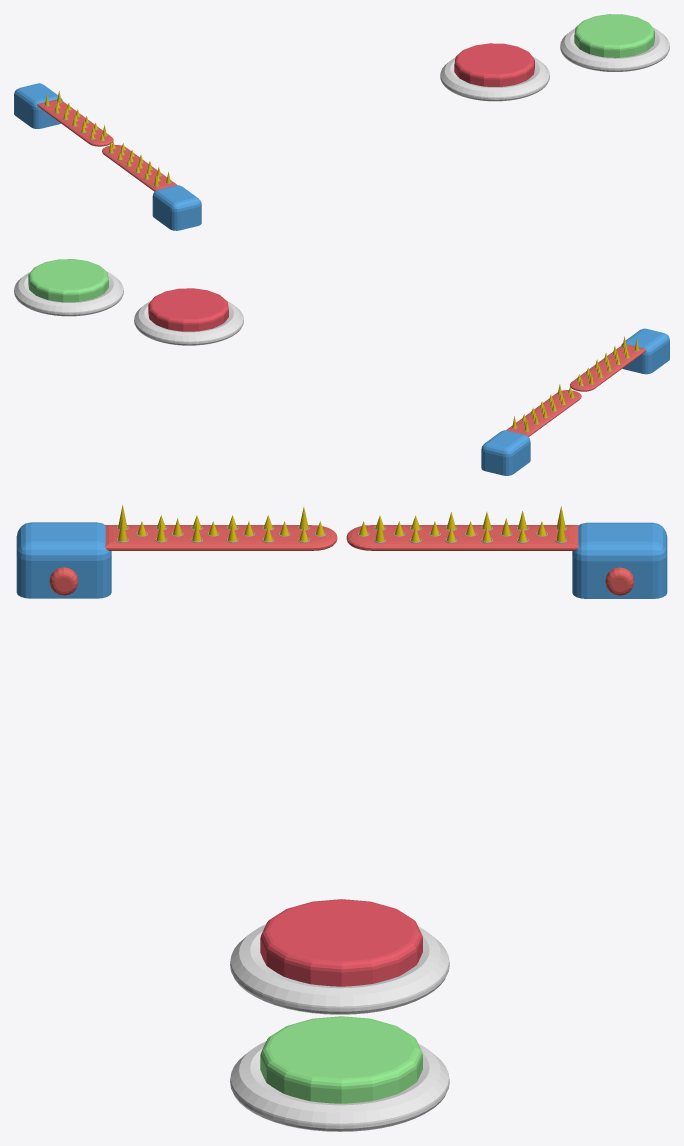
File: obstacle02.fbx
The picture shows the model from 3 angles, top to bottom: view 1: azimuth 30°, elevation 25°; view 2: azimuth 150°, elevation 25°; view 3: azimuth 270°, elevation 25°; orthographic projection. The views are drawn at different scales.
Parts seen in each view (by area): view 1: greenbutton, redbutton, redbuttonmain, greenbuttonmain, obstacle02.1, obstacle02.3, obstacle02.4, obstacle02.2; view 2: greenbutton, redbutton, greenbuttonmain, redbuttonmain, obstacle02.4, obstacle02.2, obstacle02.1, obstacle02.3; view 3: redbutton, greenbutton, greenbuttonmain, redbuttonmain, obstacle02.4, obstacle02.1, obstacle02.2, obstacle02.3.
Boxes of the visible parts, x1,y1,x2,y2 form: greenbutton: (574, 14, 654, 57); redbutton: (454, 43, 534, 86); redbuttonmain: (440, 56, 549, 101); greenbuttonmain: (560, 27, 669, 71); obstacle02.1: (152, 185, 201, 230); obstacle02.3: (37, 91, 113, 146); obstacle02.4: (14, 83, 62, 128); obstacle02.2: (102, 141, 177, 191); greenbutton: (28, 259, 108, 302); redbutton: (148, 288, 228, 331); greenbuttonmain: (14, 271, 123, 316); redbuttonmain: (134, 301, 243, 345); obstacle02.4: (481, 430, 530, 475); obstacle02.2: (570, 336, 646, 391); obstacle02.1: (621, 328, 669, 374); obstacle02.3: (506, 384, 581, 436); redbutton: (260, 899, 422, 986); greenbutton: (260, 1016, 422, 1103); greenbuttonmain: (230, 1041, 449, 1131); redbuttonmain: (230, 924, 449, 1014); obstacle02.4: (572, 522, 667, 598); obstacle02.1: (16, 522, 111, 598); obstacle02.2: (105, 505, 337, 550); obstacle02.3: (346, 506, 578, 550).
Bounding box in the file's own units: 329 × 22.86 × 163.
